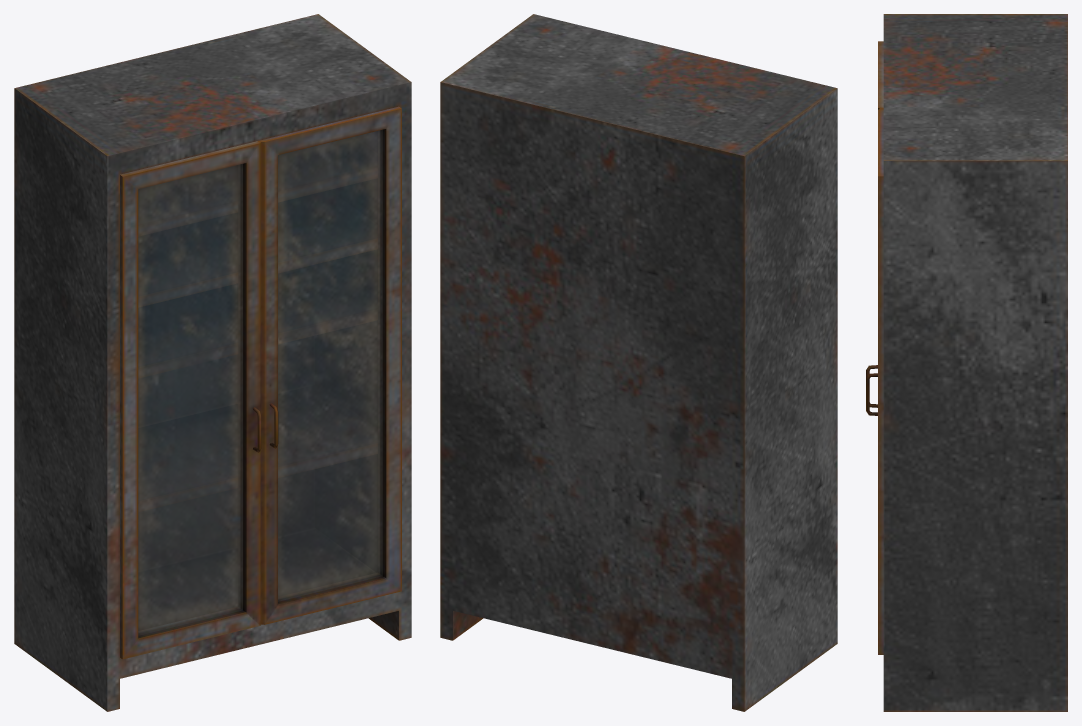
The model's file is MetSupplyCabinet.FBX.
The picture shows the model from 3 angles, left to right: view 1: azimuth 30°, elevation 25°; view 2: azimuth 150°, elevation 25°; view 3: azimuth 270°, elevation 25°; orthographic projection.
Visible parts, largest first — view 1: MetSupplyCabinet, Door_L, Door_R; view 2: MetSupplyCabinet; view 3: MetSupplyCabinet, Door_R, Door_L.
Boxes of the visible parts, <box> form: MetSupplyCabinet: <box>14,14,411,711</box>; Door_L: <box>120,140,261,659</box>; Door_R: <box>260,106,401,624</box>; MetSupplyCabinet: <box>440,14,837,711</box>; MetSupplyCabinet: <box>883,14,1067,711</box>; Door_R: <box>866,108,883,654</box>; Door_L: <box>866,41,883,407</box>.
Bounding box in the file's own units: 136 × 238 × 79.07.
2 materials, 2 textured.
